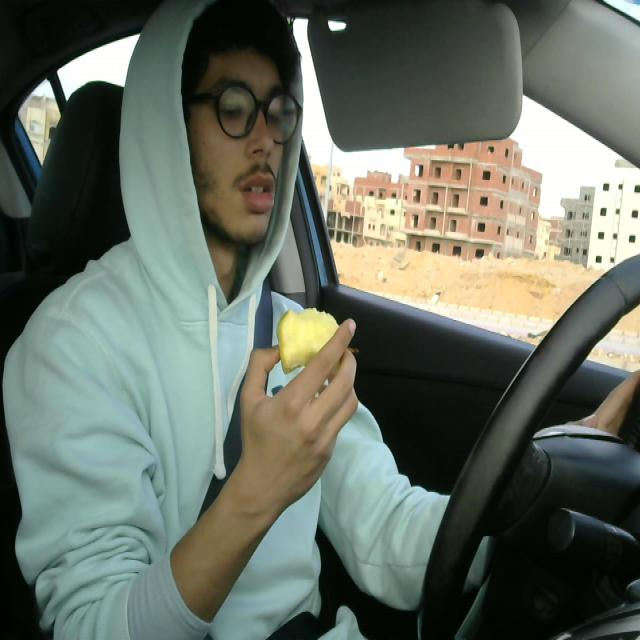eating: (273, 302, 355, 385)
